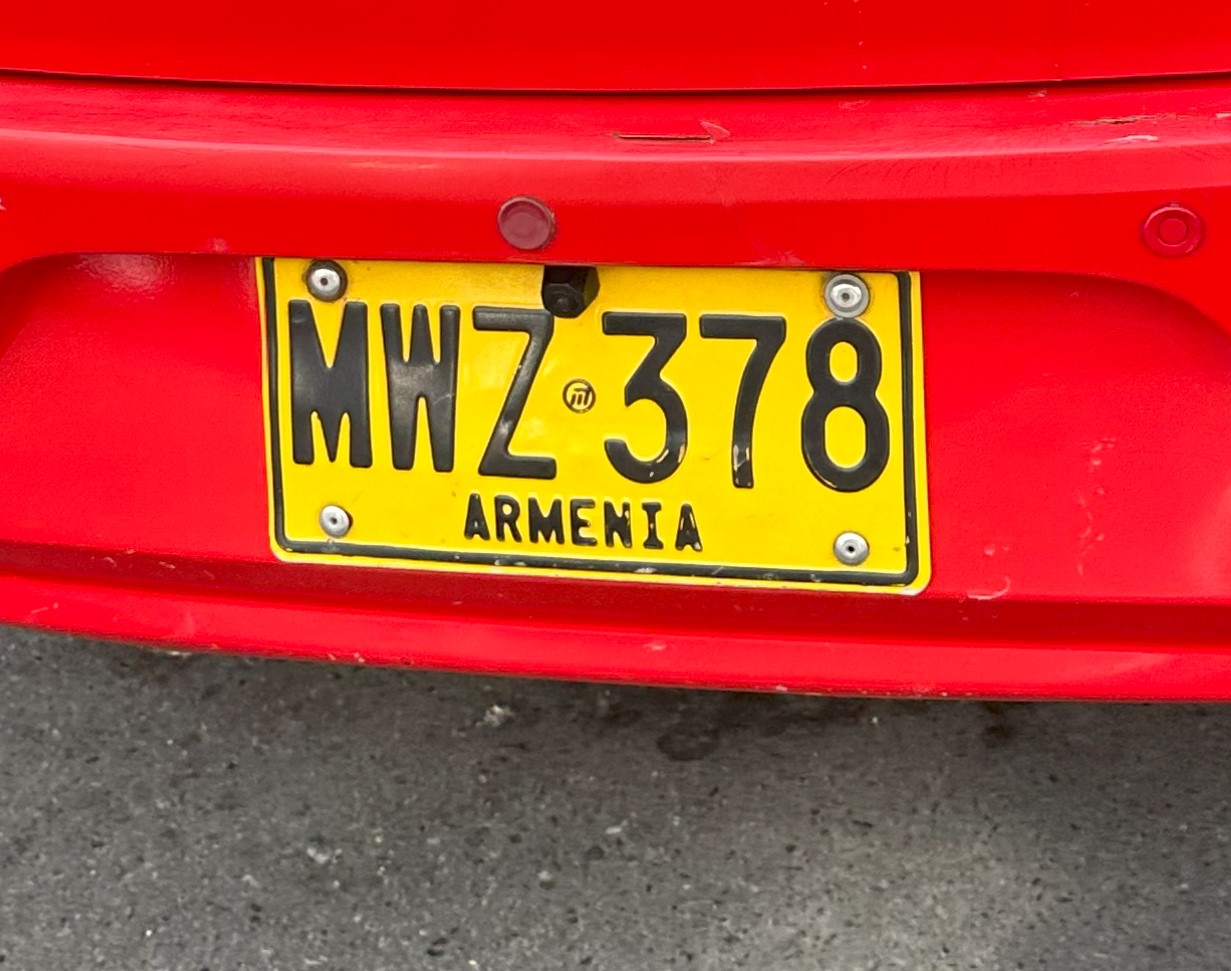number plate: (0, 4, 1230, 699), (257, 259, 928, 591)
